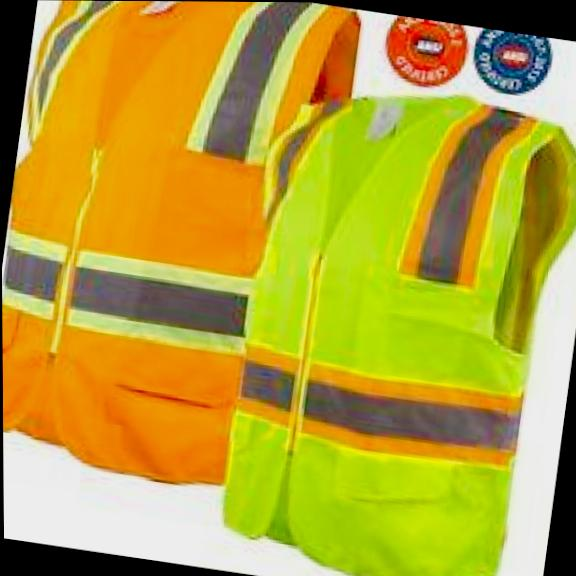safety_vest: (0, 0, 371, 506), (207, 73, 576, 576)
